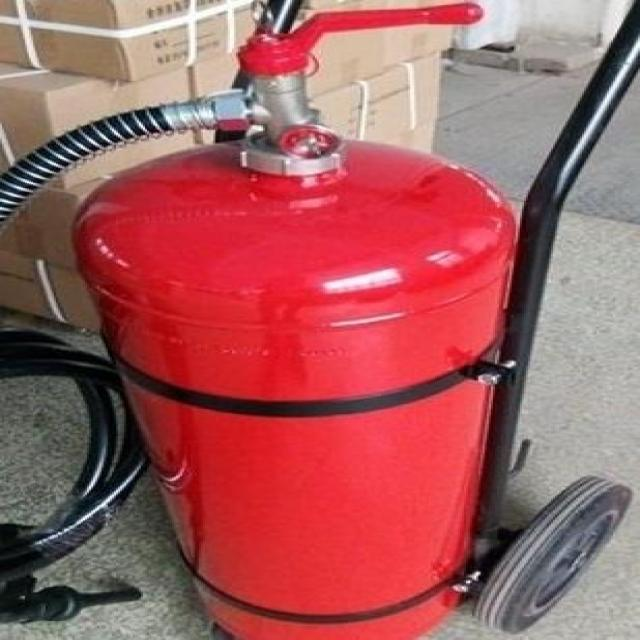fire_extinguisher: (0, 0, 536, 638)
